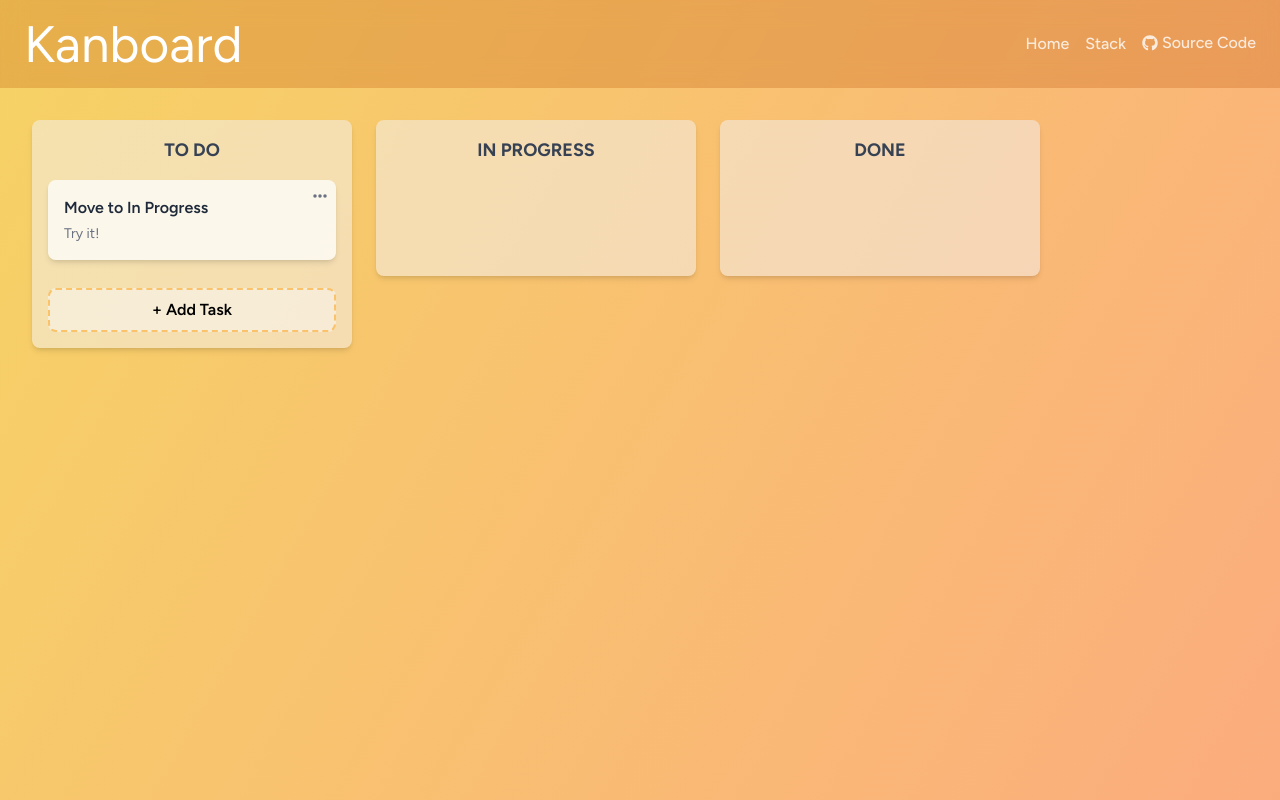
Kanban Board › can add new Task to ToDo
Click the button "+ Add Task". click: (192, 310)
box: left=48, top=288, right=336, bottom=332
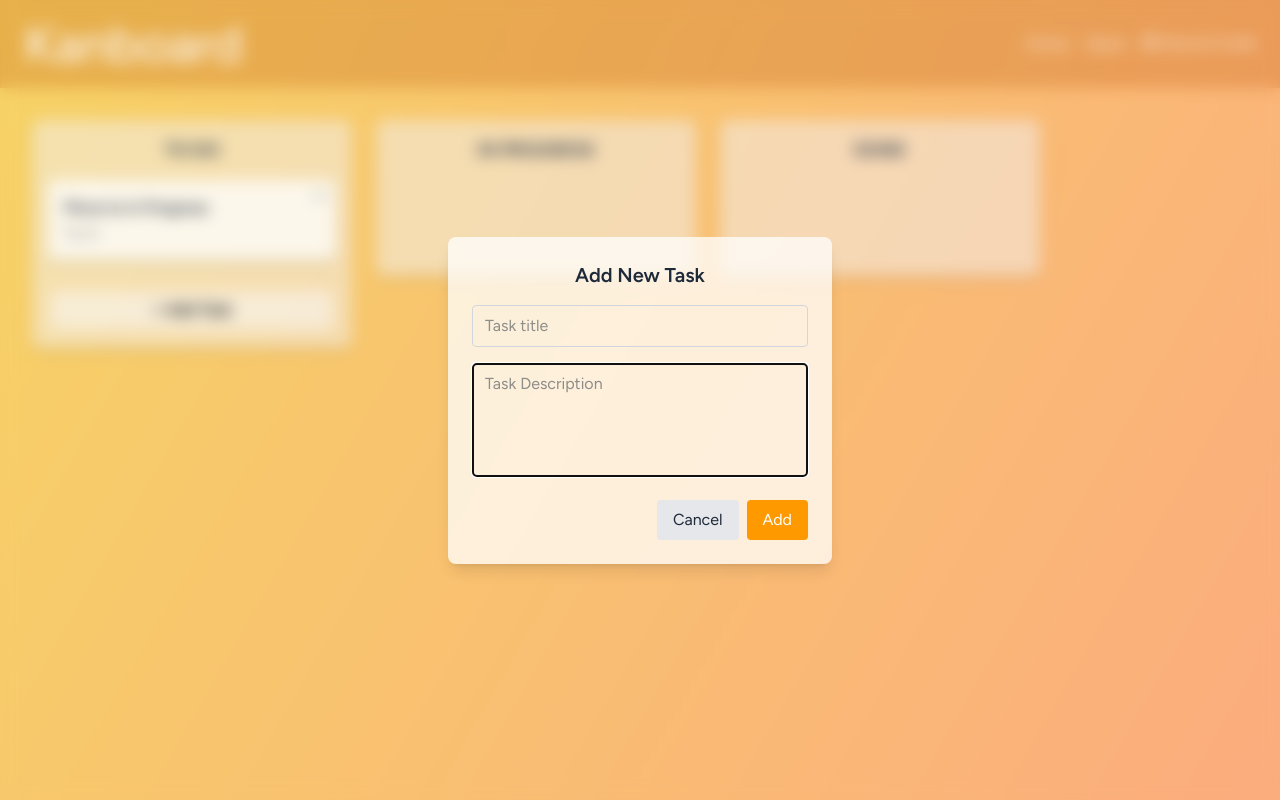
Expected: the heading "Add New Task" is shown, left=575, top=262, right=705, bottom=286
Type "Test Task" into the field with placeholder "Task title". click: (640, 326)
box: left=472, top=305, right=808, bottom=347
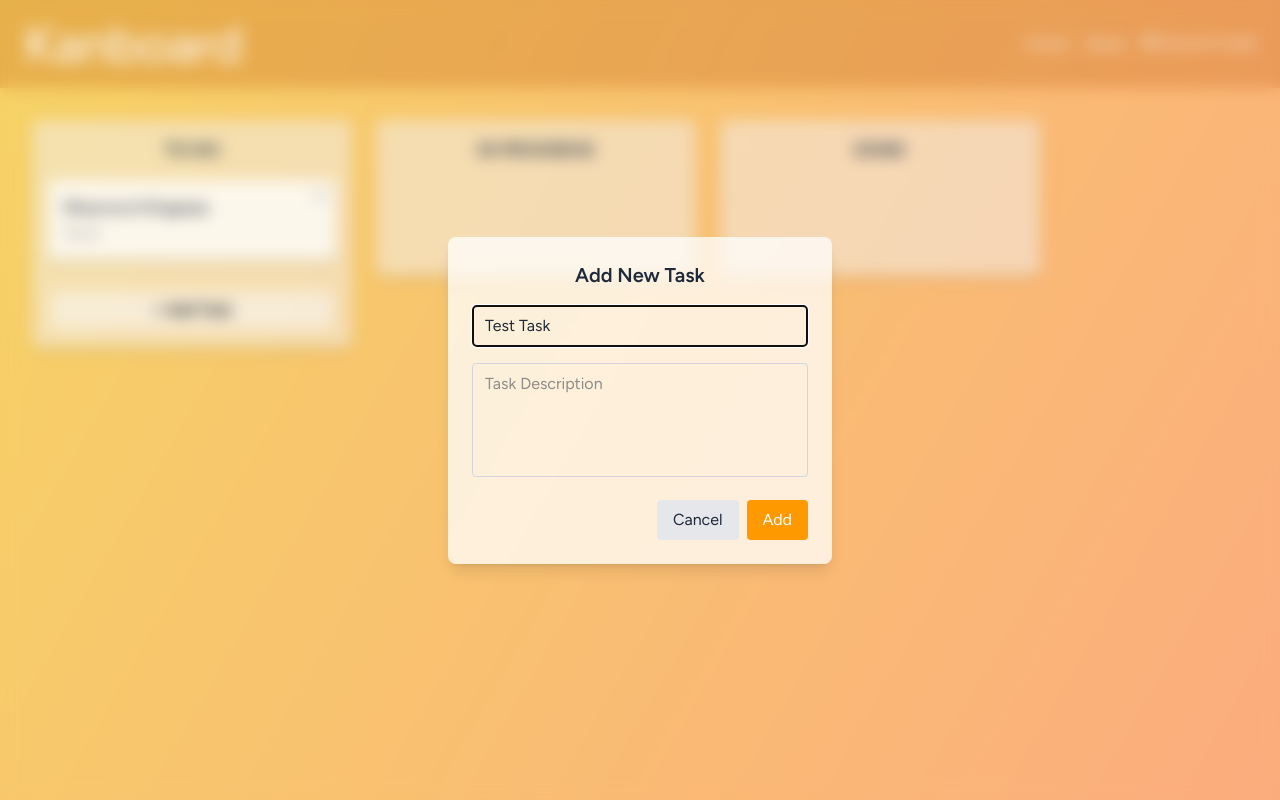
Click the submit button. click: (778, 520)
box: left=747, top=500, right=809, bottom=540
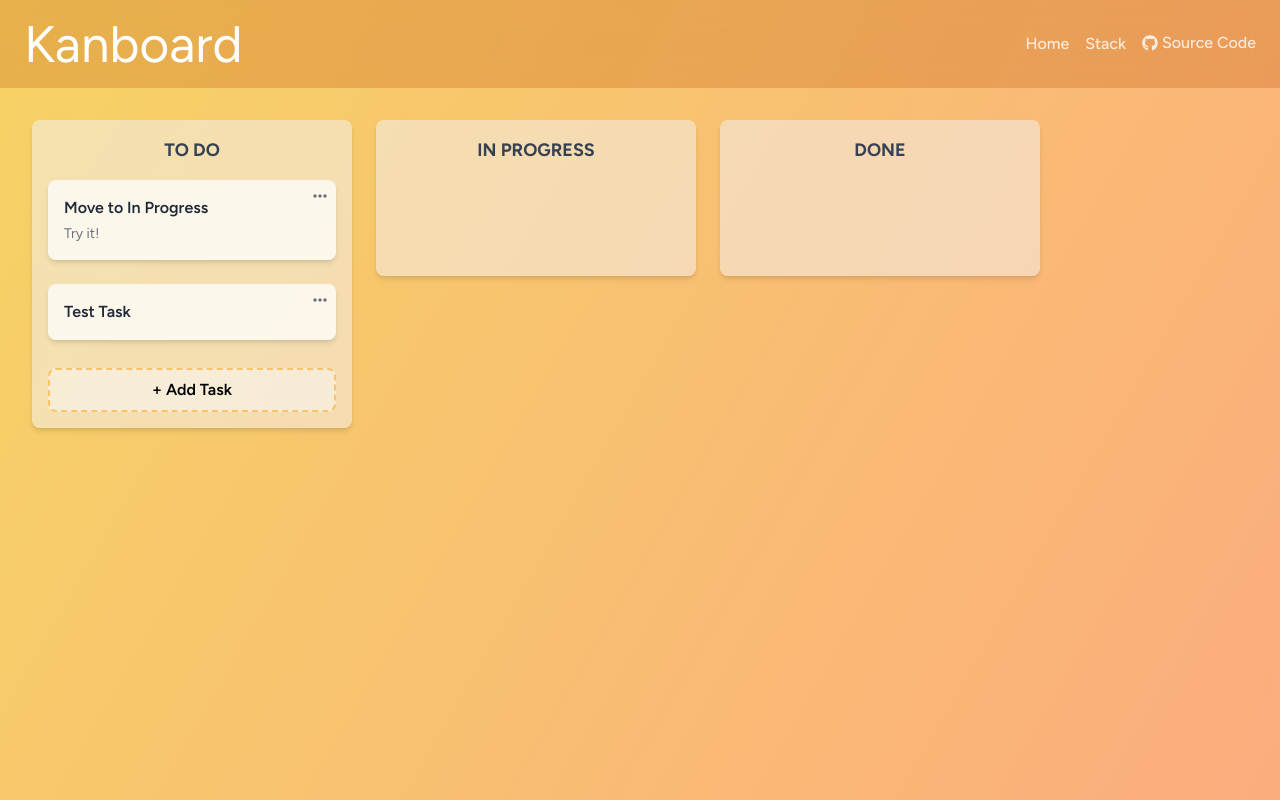
Expected: the heading "Test Task" is shown, left=64, top=302, right=131, bottom=321
